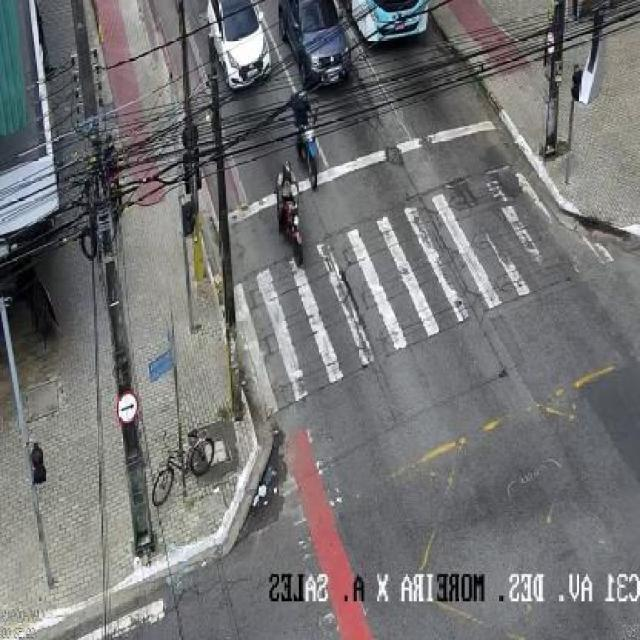Bus: (345, 0, 434, 46)
Car: (276, 1, 352, 92), (204, 0, 274, 92)
Cycle: (151, 428, 217, 506), (295, 121, 325, 190), (277, 196, 307, 264)
